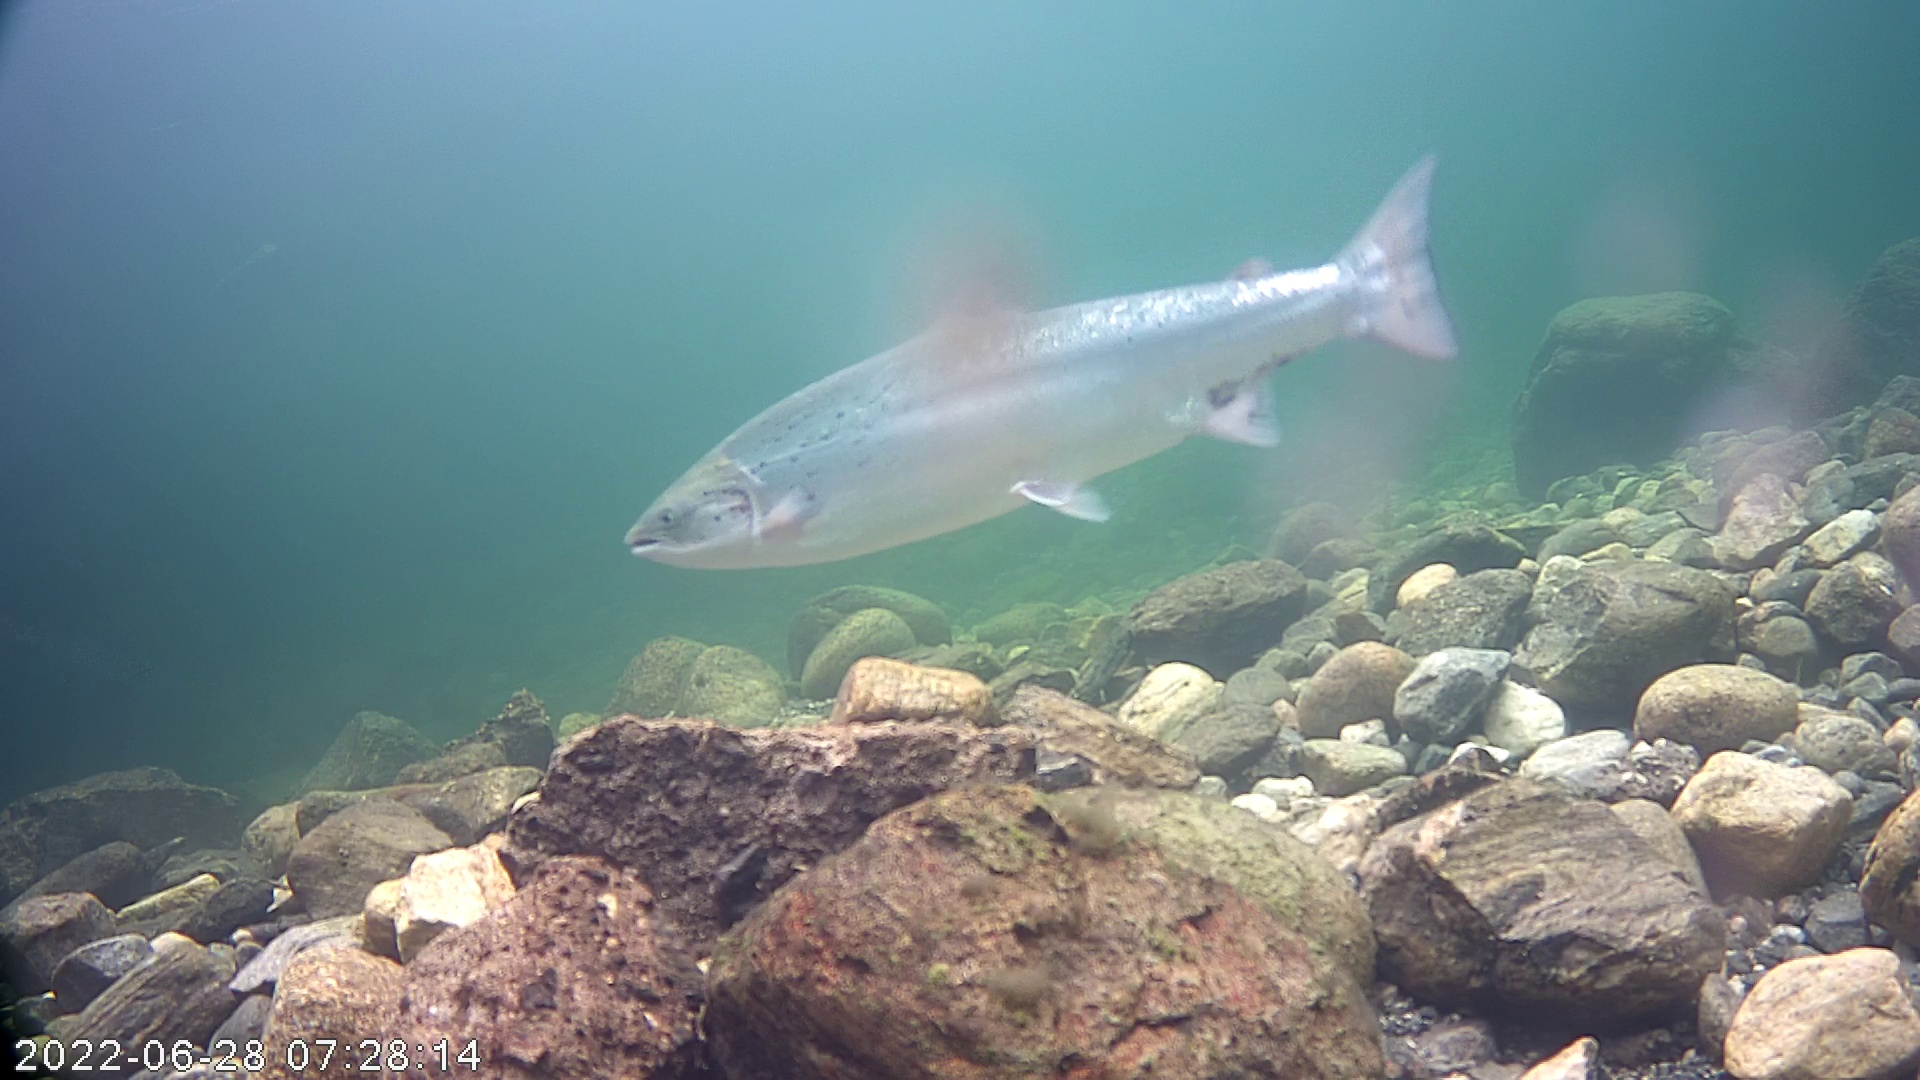salmon: (612, 113, 1497, 599)
